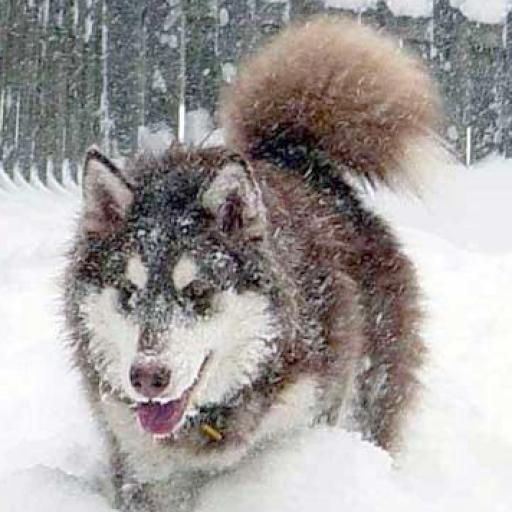dog_face: (60, 146, 279, 439)
